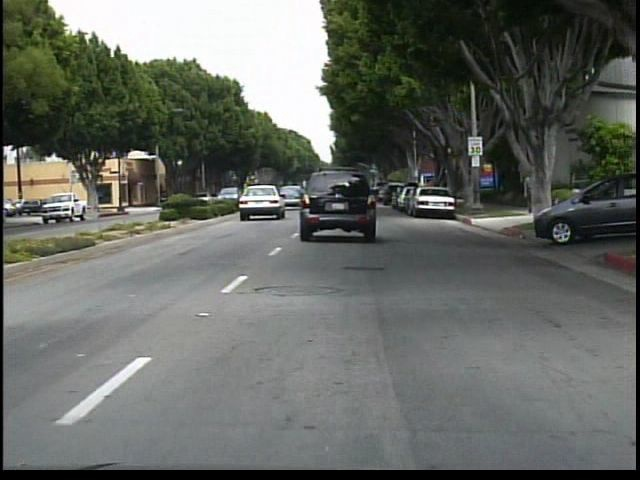person: (517, 171, 538, 218)
